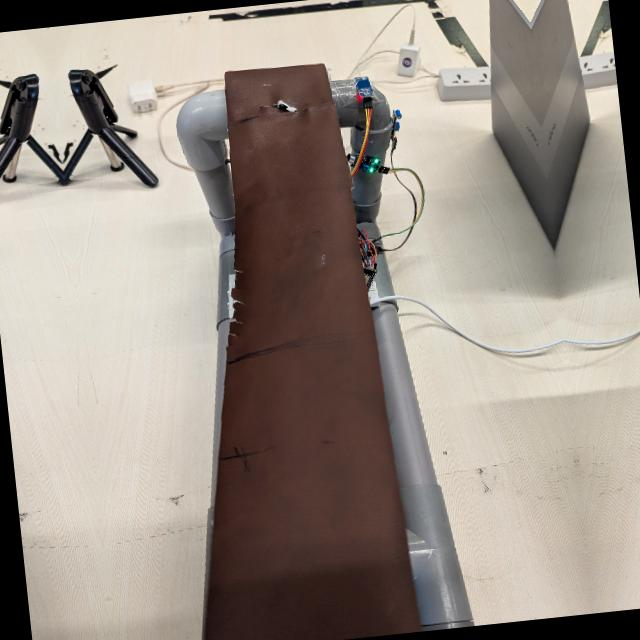edge_damage: (202, 258, 255, 349)
joint_damage: (220, 86, 306, 126)
